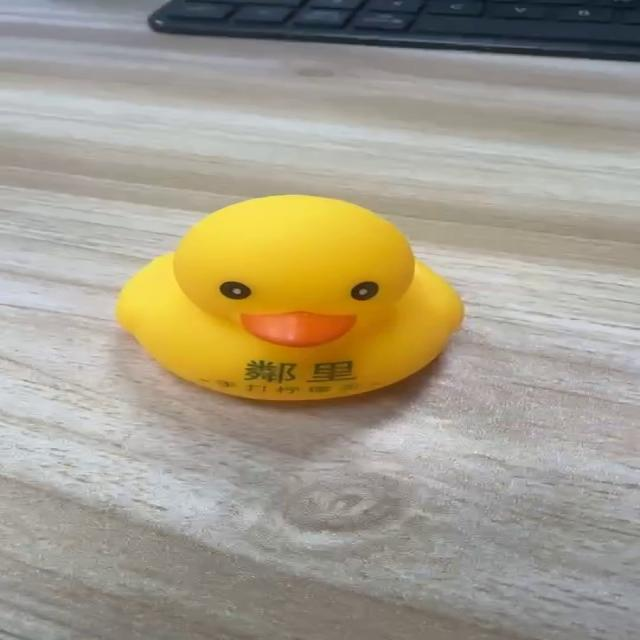yellow_duck: (112, 193, 466, 402)
